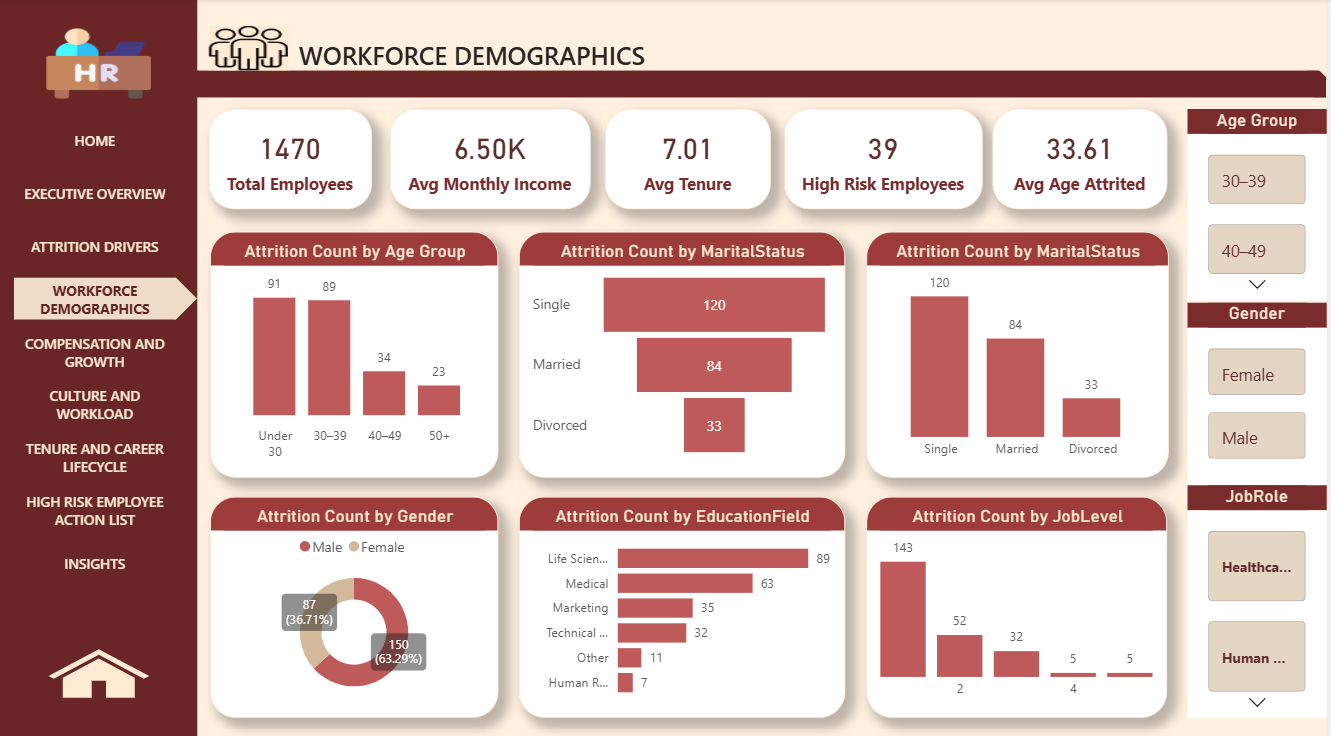

Layout of this report page (visuals, bound fields, positions):
{"tool":"powerbi","page":{"name":"WORKFORCE DEMOGRAPHICS","canvas":[1280,720],"ordinal":3},"visuals":[{"type":"clusteredColumnChart","fields":{"Category":["Attrition.Age Group"],"Y":["Attrition.Attrition Count"]},"box":[202.7,224.4,278.7,237.7],"z":0},{"type":"funnel","fields":{"Category":["Attrition.MaritalStatus"],"Y":["Attrition.Attrition Count"]},"box":[500.7,224.4,314.9,237.7],"z":1000},{"type":"donutChart","fields":{"Category":["Attrition.Gender"],"Y":["Attrition.Attrition Count"]},"box":[202.7,480.2,278.7,213.5],"z":2000},{"type":"clusteredBarChart","fields":{"Category":["Attrition.EducationField"],"Y":["Attrition.Attrition Count"]},"box":[500.7,480.2,314.9,213.5],"z":3000},{"type":"advancedSlicerVisual","fields":{"Values":["Attrition.Age Group"]},"box":[1145.6,106.8,134.2,184.7],"z":4000},{"type":"shape","box":[0,0,190.4,720.8],"z":5000},{"type":"shape","box":[0,68.8,1280,26.5],"z":6000},{"type":"advancedSlicerVisual","fields":{"Values":["Attrition.Gender"]},"box":[1145.6,292.9,134.2,176],"z":7000},{"type":"textbox","box":[223.6,33.2,464.6,49.1],"z":8000},{"type":"card","fields":{"Values":["Attrition.Total Employees"]},"box":[202,106.8,157.3,96.7],"z":9000},{"type":"card","fields":{"Values":["Attrition.Avg Monthly Income"]},"box":[376.6,106.8,193.3,96.7],"z":10000},{"type":"clusteredColumnChart","fields":{"Y":["Attrition.Attrition Count"],"Category":["Attrition.JobLevel"]},"box":[836.1,480.2,290.8,213.5],"z":11000},{"type":"clusteredColumnChart","fields":{"Y":["Attrition.Attrition Count"],"Category":["Attrition.MaritalStatus"]},"box":[836.1,224.4,292,237.7],"z":12000},{"type":"card","fields":{"Values":["Attrition.High Risk Employees"]},"box":[756,106.8,191.9,96.7],"z":13000},{"type":"advancedSlicerVisual","fields":{"Values":["Attrition.JobRole"]},"box":[1145.6,468.9,134.2,225.1],"z":14000},{"type":"card","fields":{"Values":["Attrition.Avg Age Attrited"]},"box":[958,106.8,168.8,96.7],"z":15000},{"type":"card","fields":{"Values":["Attrition.Avg Tenure"]},"box":[584.3,106.8,160.1,96.7],"z":16000},{"type":"pageNavigator","box":[13,115.4,177.5,455.9],"z":18000},{"type":"image","box":[202,18.8,76.5,56.3],"z":18001},{"type":"image","box":[27.4,26,134.2,72.1],"z":18002},{"type":"image","box":[40.4,618.9,111.1,63.5],"z":18003}]}

Visuals, with their boxes on the page's 1280x720 design canvas (x1, y1, x2, y2). These are canvas units, not pixel positions in the 1331x736 screenshot, which may show the page scaled, cropped or inside an application window:
clusteredColumnChart - Attrition.Age Group x Attrition.Attrition Count: 203:224:481:462
funnel - Attrition.MaritalStatus x Attrition.Attrition Count: 501:224:816:462
donutChart - Attrition.Gender x Attrition.Attrition Count: 203:480:481:694
clusteredBarChart - Attrition.EducationField x Attrition.Attrition Count: 501:480:816:694
advancedSlicerVisual - Attrition.Age Group: 1146:107:1280:292
shape: 0:0:190:721
shape: 0:69:1280:95
advancedSlicerVisual - Attrition.Gender: 1146:293:1280:469
textbox: 224:33:688:82
card - Attrition.Total Employees: 202:107:359:204
card - Attrition.Avg Monthly Income: 377:107:570:204
clusteredColumnChart - Attrition.Attrition Count x Attrition.JobLevel: 836:480:1127:694
clusteredColumnChart - Attrition.Attrition Count x Attrition.MaritalStatus: 836:224:1128:462
card - Attrition.High Risk Employees: 756:107:948:204
advancedSlicerVisual - Attrition.JobRole: 1146:469:1280:694
card - Attrition.Avg Age Attrited: 958:107:1127:204
card - Attrition.Avg Tenure: 584:107:744:204
pageNavigator: 13:115:190:571
image: 202:19:278:75
image: 27:26:162:98
image: 40:619:152:682
